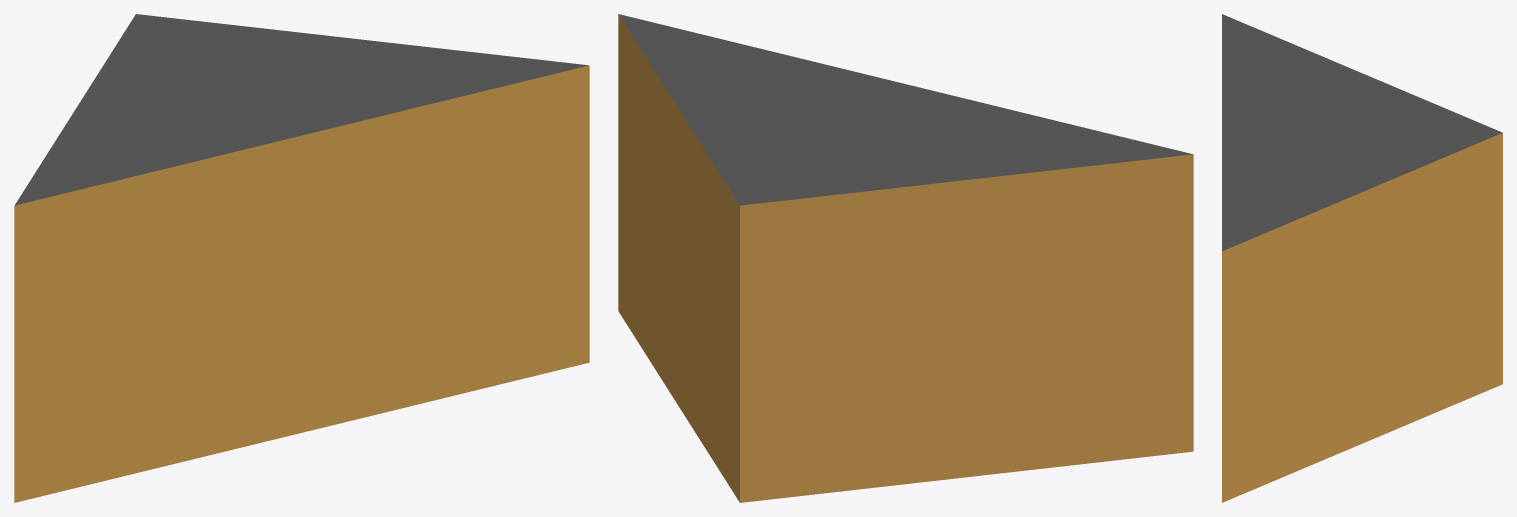
File: Skate_Box_Corner_Half_01.FBX
The picture shows the model from 3 angles, left to right: view 1: azimuth 30°, elevation 25°; view 2: azimuth 150°, elevation 25°; view 3: azimuth 270°, elevation 25°; orthographic projection. The views are drawn at different scales.
Parts seen in each view (by area): view 1: Skate_Box_Corner_Half_01; view 2: Skate_Box_Corner_Half_01; view 3: Skate_Box_Corner_Half_01.
Boxes of the visible parts, <box> form: Skate_Box_Corner_Half_01: <box>14,14,589,502</box>; Skate_Box_Corner_Half_01: <box>618,14,1193,502</box>; Skate_Box_Corner_Half_01: <box>1222,14,1502,502</box>.
Bounding box in the file's own units: 3000 × 1482 × 1500.
